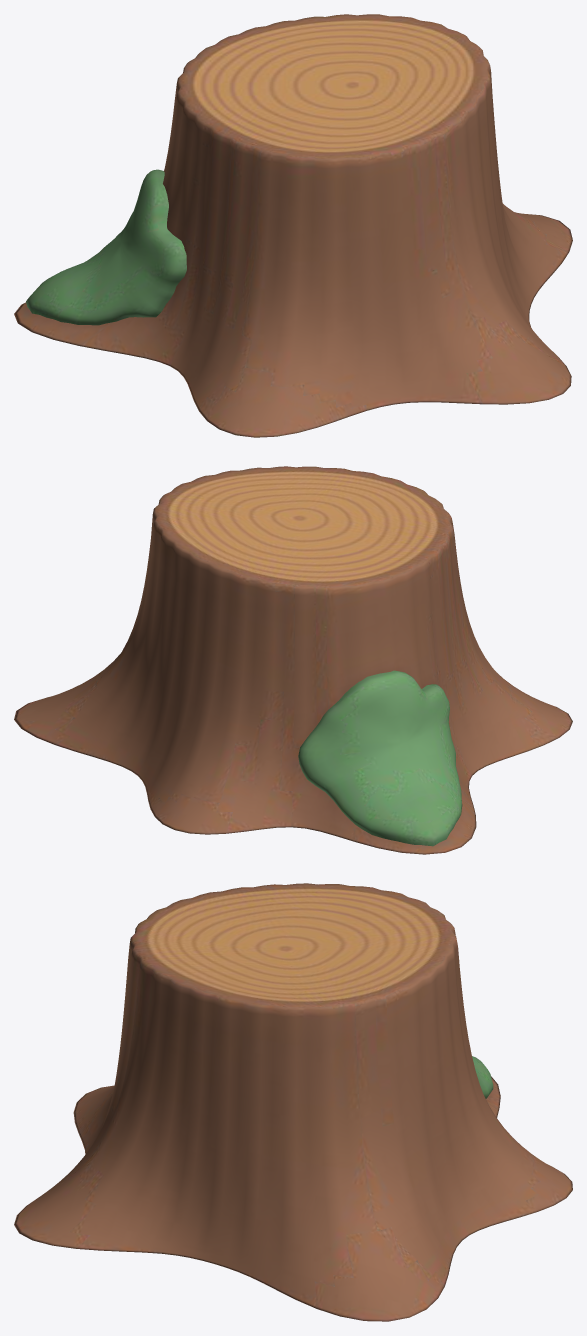
The model's file is stump.glb.
3 views of the same model, one above another, from view 1: azimuth 30°, elevation 25°; view 2: azimuth 150°, elevation 25°; view 3: azimuth 270°, elevation 25° (orthographic). The views are drawn at different scales.
Parts seen in each view (by area): view 1: tree-stump_body; view 2: tree-stump_body; view 3: tree-stump_body.
Boxes of the visible parts, x1,y1,x2,y2 form: tree-stump_body: (14,14,572,437); tree-stump_body: (14,466,572,854); tree-stump_body: (14,883,572,1321).
Bounding box in the file's own units: 1.07 × 0.4841 × 0.9809.
Materials: 1 (1 with a texture image).
